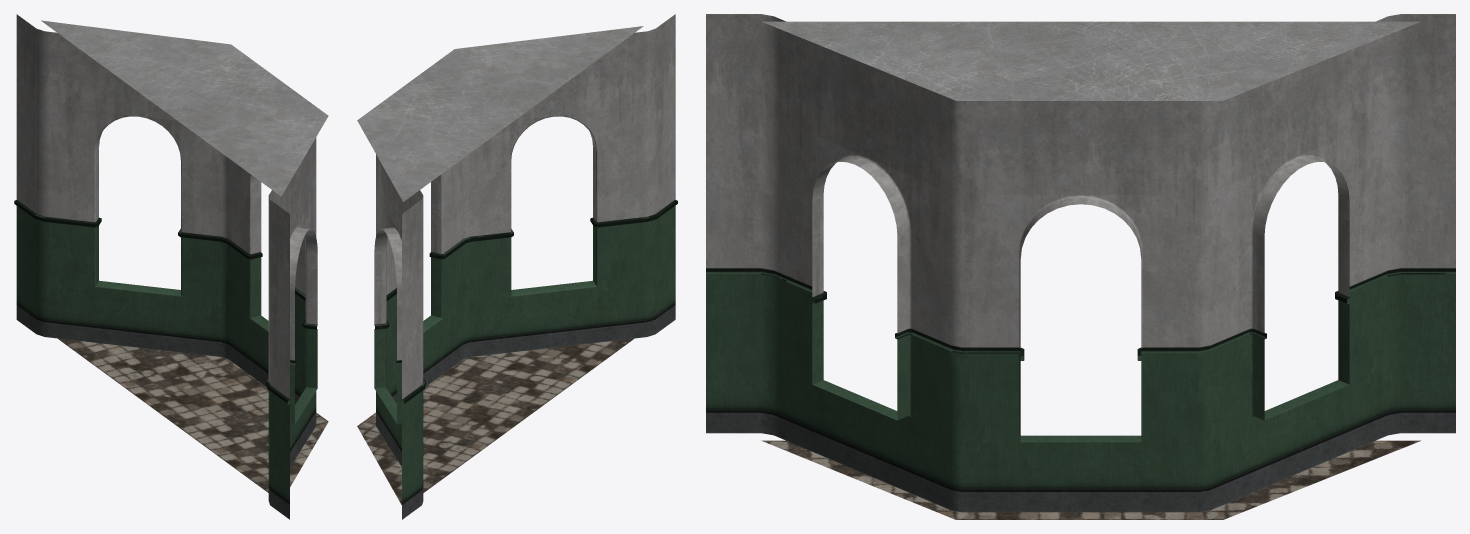
Rendered from Psychiatric_Ward_Infirmary_Arched_Windows_A.glb.
3 views of the same model, side by side, from view 1: azimuth 30°, elevation 25°; view 2: azimuth 150°, elevation 25°; view 3: azimuth 270°, elevation 25° (orthographic). The views are drawn at different scales.
Parts seen in each view (by area): view 1: Psychiatric_Ward_Infirmary_Arched_Windows_A; view 2: Psychiatric_Ward_Infirmary_Arched_Windows_A; view 3: Psychiatric_Ward_Infirmary_Arched_Windows_A.
Part boxes in pixels (x1,y1,x2,y2): Psychiatric_Ward_Infirmary_Arched_Windows_A: (14,14,328,519); Psychiatric_Ward_Infirmary_Arched_Windows_A: (357,14,677,519); Psychiatric_Ward_Infirmary_Arched_Windows_A: (706,14,1455,519).
Size of the model in its own units: 1.67 by 3.7 by 6.
Materials: 3 (3 with a texture image).
